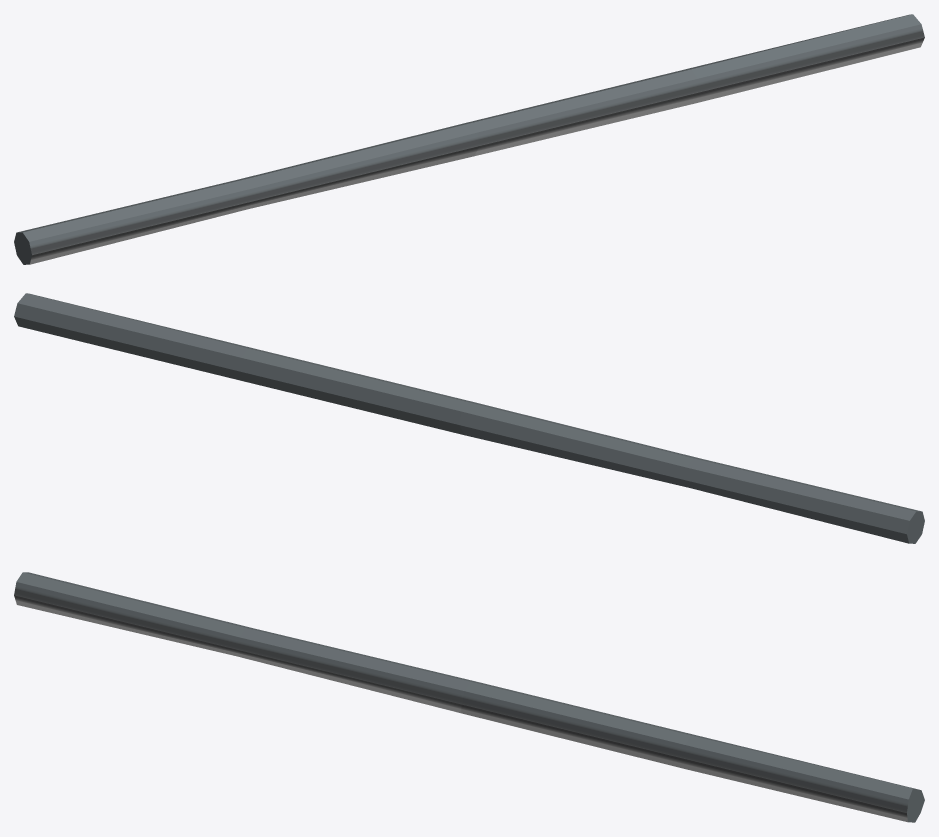
The model's file is pole_metal_01.fbx.
3 views of the same model, one above another, from view 1: azimuth 30°, elevation 25°; view 2: azimuth 150°, elevation 25°; view 3: azimuth 330°, elevation 25° (orthographic).
Visible parts, largest first — view 1: mpole01; view 2: mpole01; view 3: mpole01.
Boxes of the visible parts, bbox=[...] form: mpole01: bbox=[14, 14, 924, 264]; mpole01: bbox=[14, 293, 924, 543]; mpole01: bbox=[14, 572, 924, 822].
Size of the model in its own units: 8.18 by 0.2869 by 0.304.
